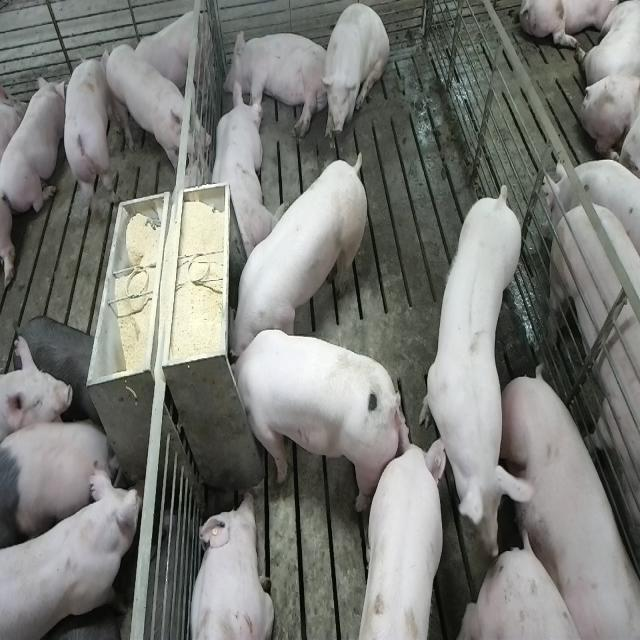Feeding: (220, 328, 400, 513), (230, 144, 372, 359)
Lateral_lying: (222, 26, 330, 140)
Sitting: (320, 3, 389, 147)
Standing: (548, 197, 640, 638), (420, 186, 528, 541), (2, 458, 146, 638), (350, 442, 442, 640), (3, 417, 123, 548), (104, 45, 194, 174), (61, 45, 115, 225)
Sternal_lying: (187, 490, 275, 640), (208, 81, 280, 263), (3, 68, 67, 218), (131, 3, 213, 98)
